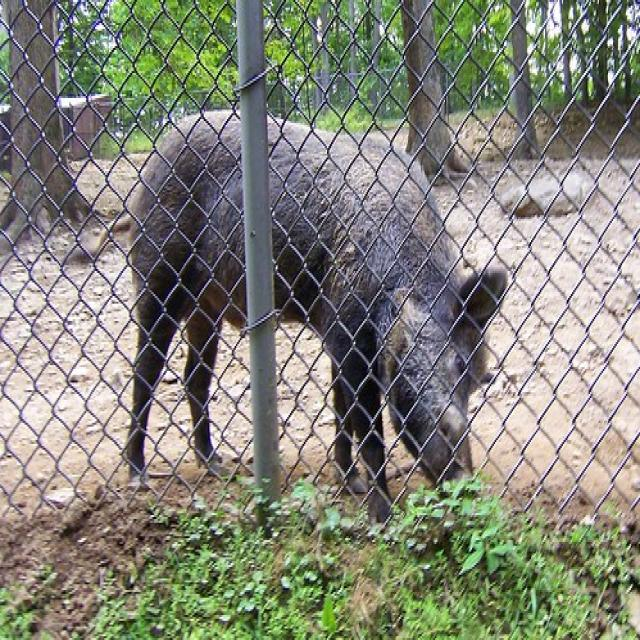boar: (102, 100, 533, 532)
